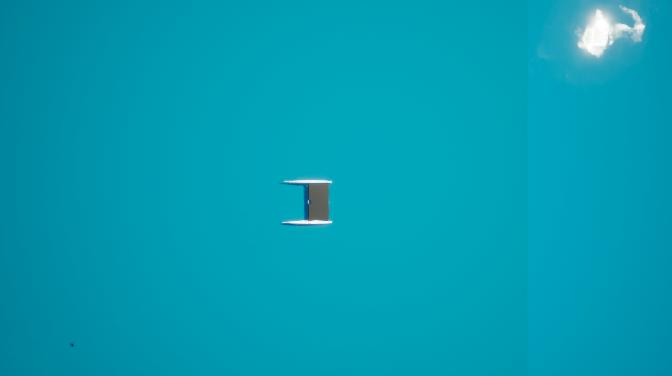boat: (283, 178, 333, 230)
drone: (69, 341, 76, 351)
land_base: (309, 183, 329, 219)
light_reflex: (532, 1, 649, 82)
